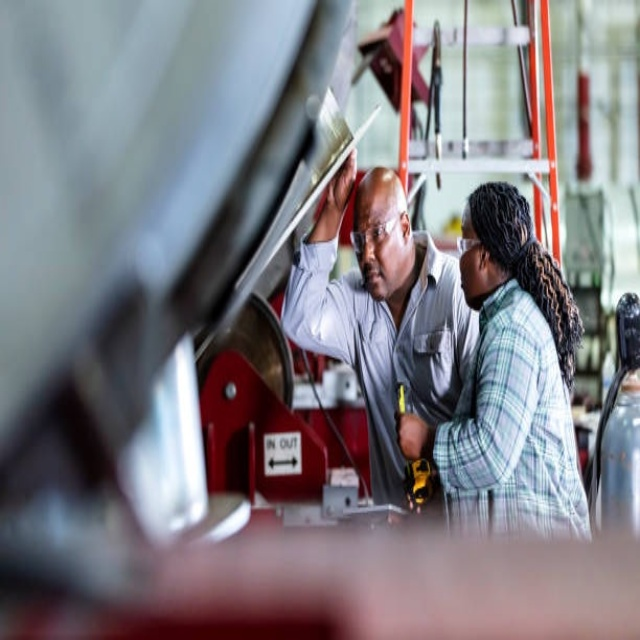Gafas: (351, 212, 404, 253), (457, 236, 482, 255)
Sin_guantes: (324, 145, 359, 215), (396, 408, 432, 463)
Sin_mascara: (362, 262, 392, 295), (459, 267, 479, 307)
